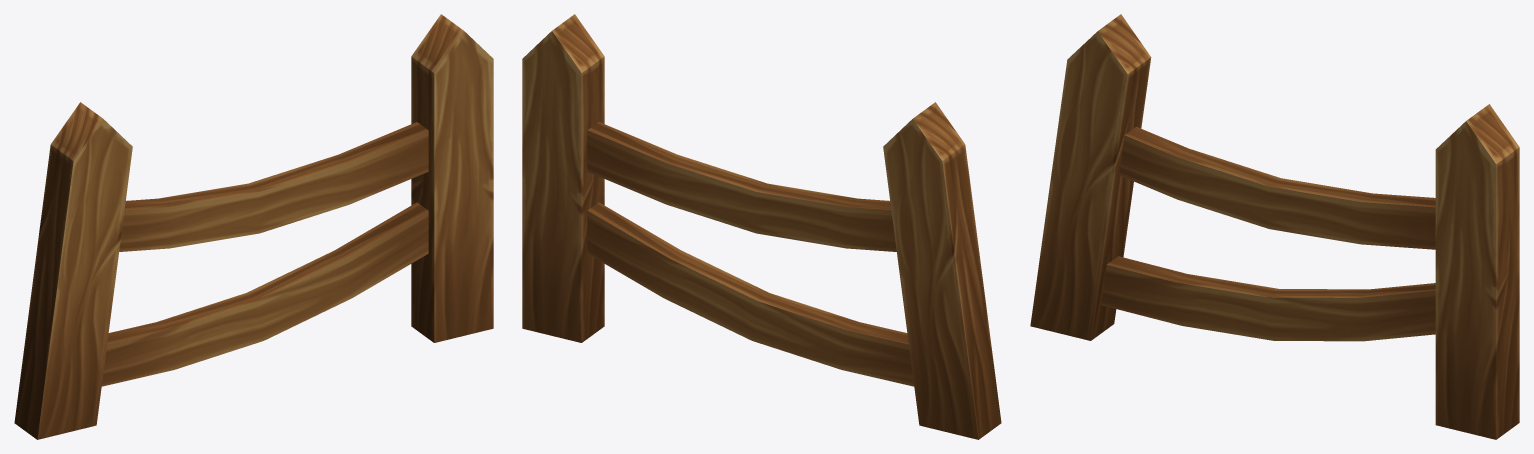
The model's file is Fence_1.FBX.
The picture shows the model from 3 angles, left to right: view 1: azimuth 30°, elevation 25°; view 2: azimuth 150°, elevation 25°; view 3: azimuth 330°, elevation 25°; orthographic projection. The views are drawn at different scales.
Parts seen in each view (by area): view 1: Fence_1; view 2: Fence_1; view 3: Fence_1.
Boxes of the visible parts, x1,y1,x2,y2 form: Fence_1: (14,14,493,439); Fence_1: (522,14,1001,439); Fence_1: (1030,14,1519,439).
Size of what is drawn, in the model's own units: 230 by 20 by 147.
